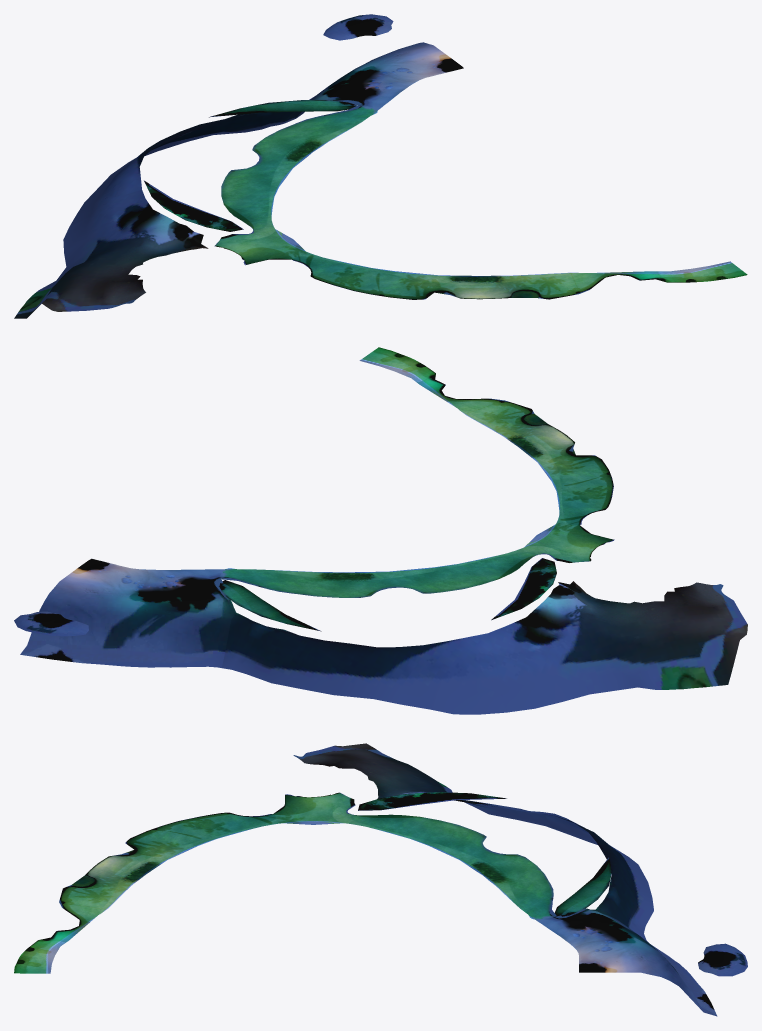
The model's file is pref_sm_beach_techsmall_WSJ_001_bk_outer_R_lv2.fbx.
3 views of the same model, one above another, from view 1: azimuth 30°, elevation 25°; view 2: azimuth 150°, elevation 25°; view 3: azimuth 270°, elevation 25° (orthographic). The views are drawn at different scales.
Visible parts, largest first — view 1: pref_sm_beach_techsmall_WSJ_001_bk_outer_R_lv2; view 2: pref_sm_beach_techsmall_WSJ_001_bk_outer_R_lv2; view 3: pref_sm_beach_techsmall_WSJ_001_bk_outer_R_lv2.
Boxes of the visible parts, x1,y1,x2,y2 form: pref_sm_beach_techsmall_WSJ_001_bk_outer_R_lv2: [14, 14, 747, 318]; pref_sm_beach_techsmall_WSJ_001_bk_outer_R_lv2: [14, 347, 747, 714]; pref_sm_beach_techsmall_WSJ_001_bk_outer_R_lv2: [14, 743, 747, 1016].
Size of the model in its own units: 81.9 by 8.47 by 96.65.
